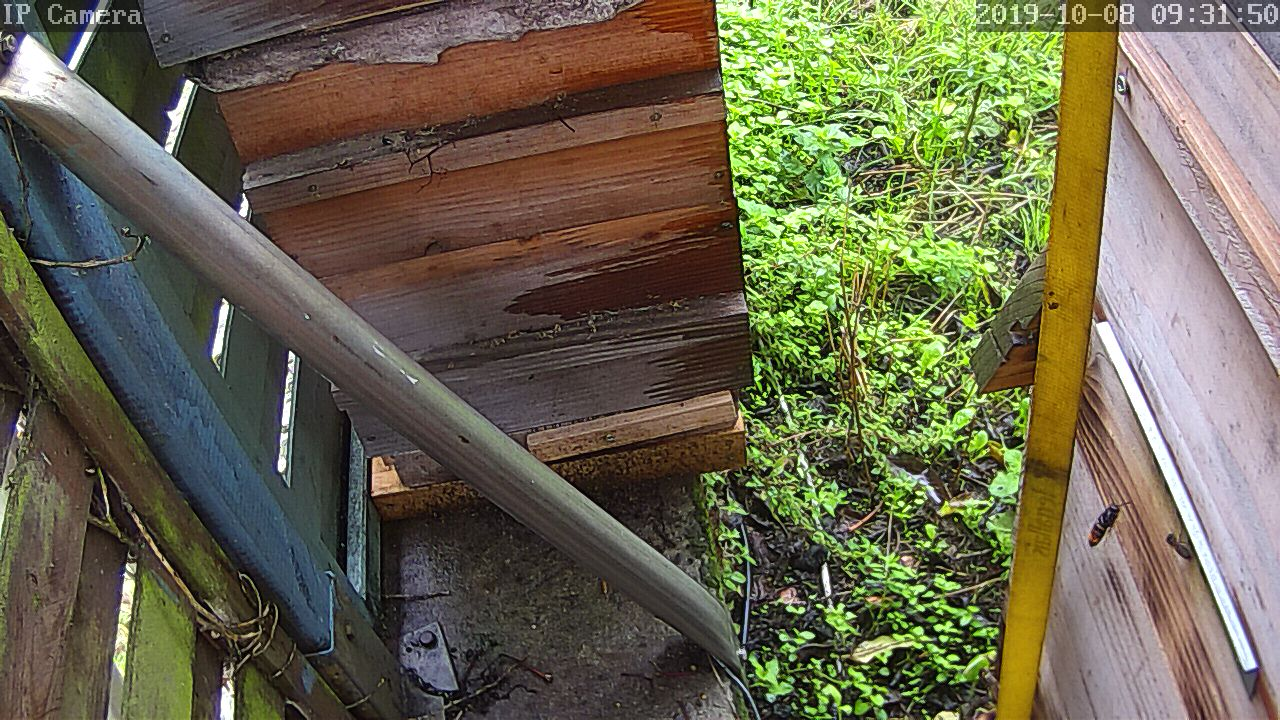bee: (1158, 518, 1193, 562)
hornet: (1084, 502, 1125, 554)
